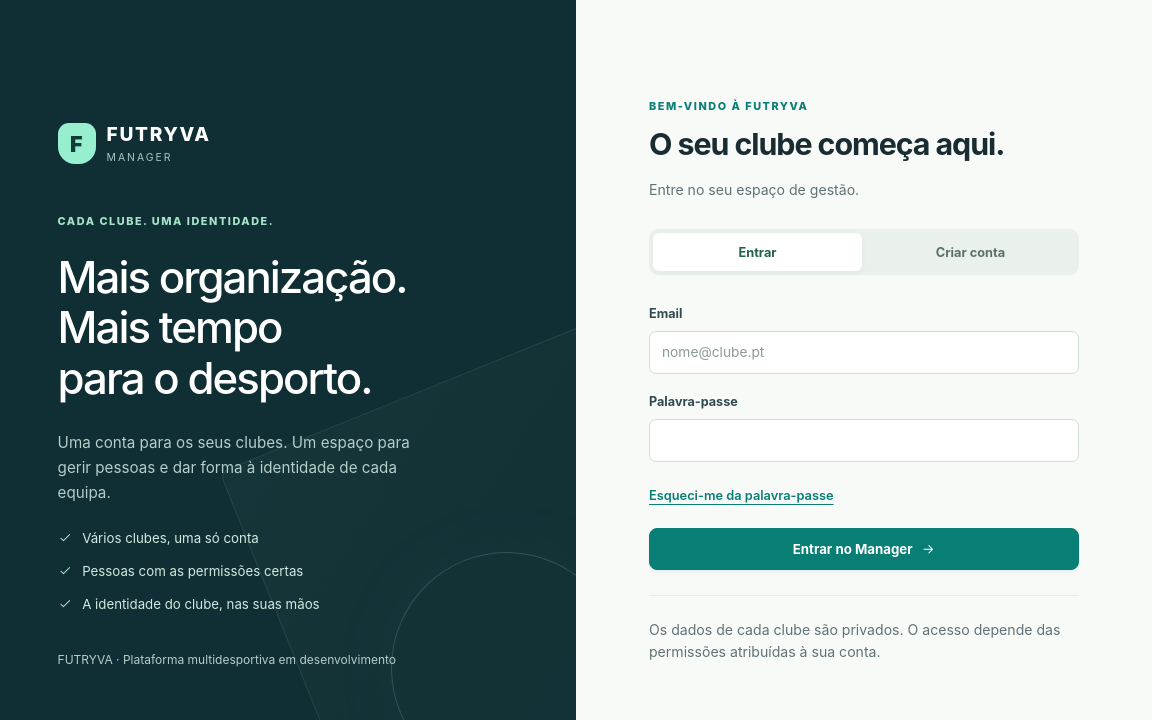
it: acesso à conta › regista uma conta e leva a pessoa à confirmação de email, sem guardar tokens no browser
The width and height of the screenshot is (1152, 720).
Click the button "Criar conta".
click(970, 252)  # box [866, 233, 1075, 271]
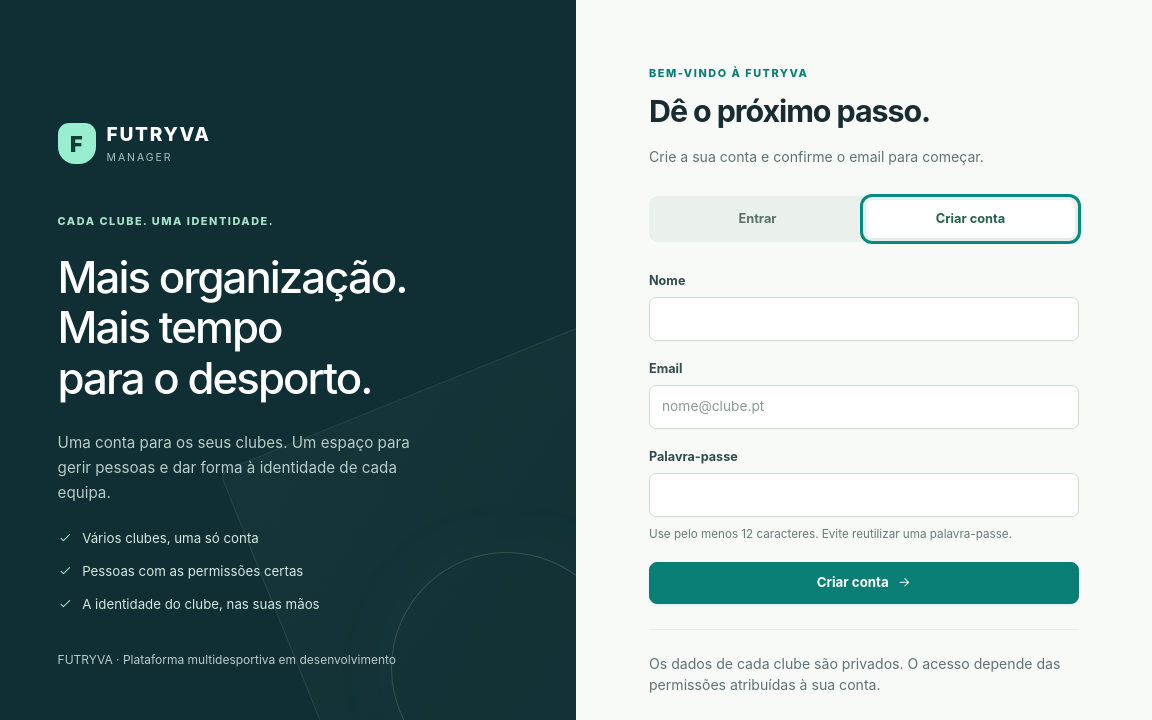
Type "Ana Silva" into the field labelled "Nome".
click(864, 319); type("Ana Silva")  # box [649, 297, 1079, 341]
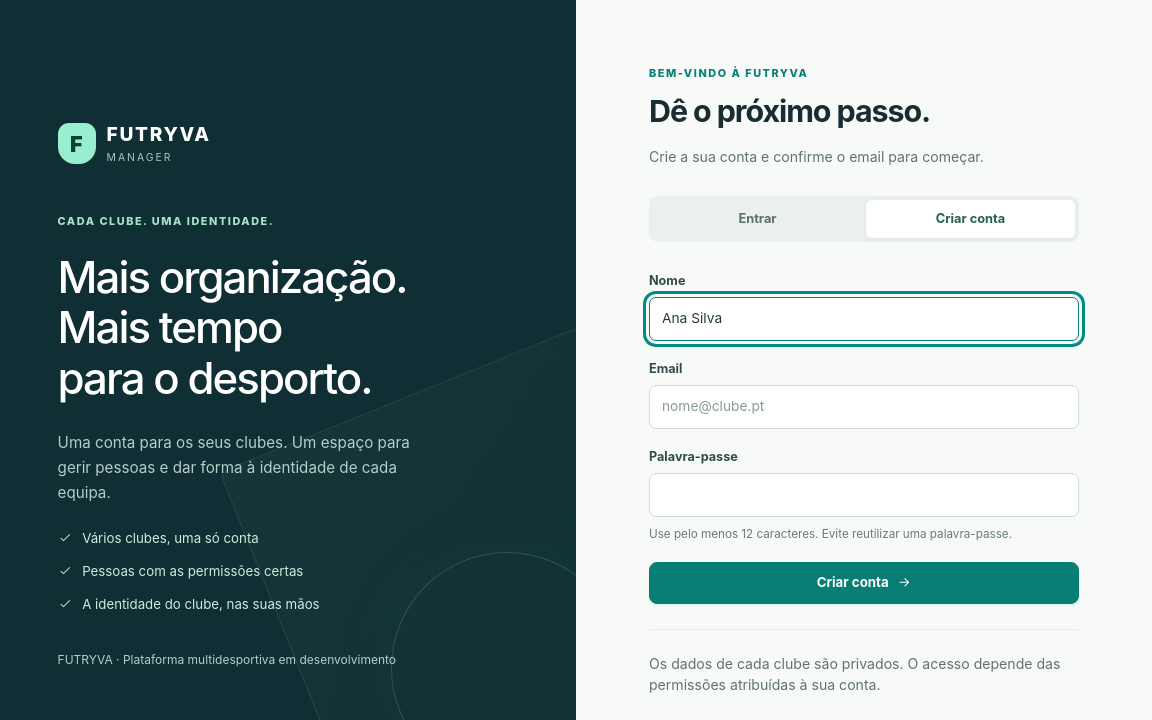
Type "manager@example.invalid" into the field labelled "Email".
click(864, 407); type("manager@example.invalid")  # box [649, 385, 1079, 429]
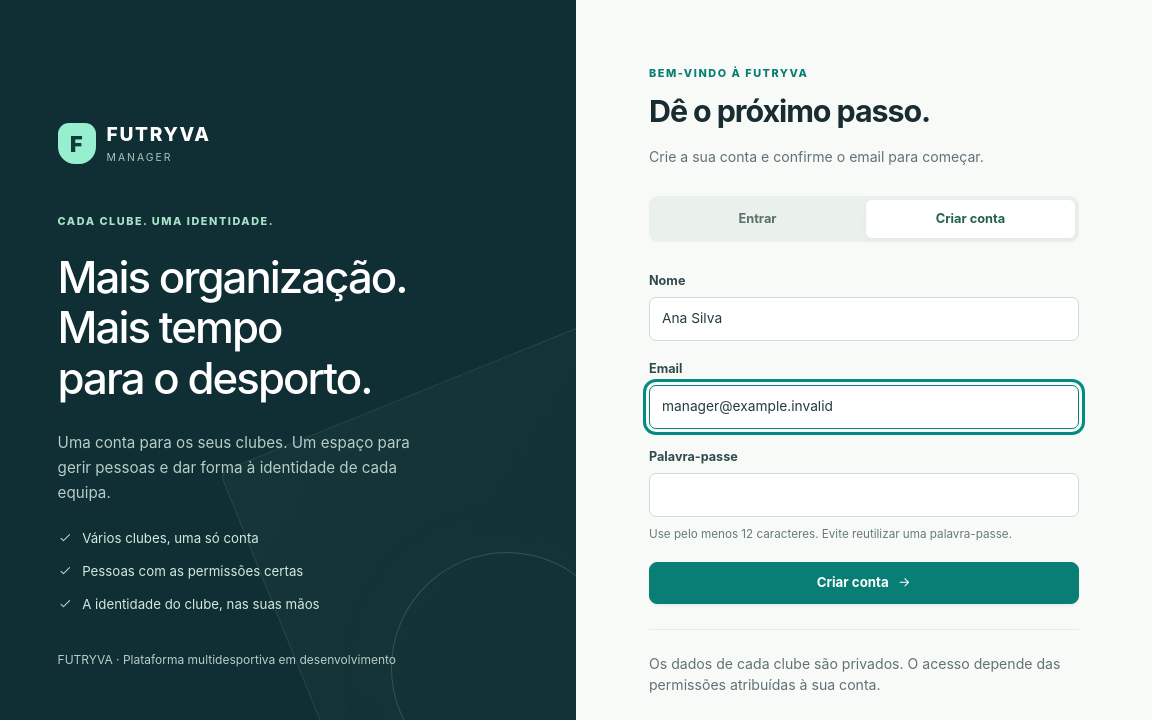
Type "Uma frase sintética longa" into the password field labelled "Palavra-passe".
click(864, 495); type("Uma frase sintética longa")  # box [649, 473, 1079, 517]
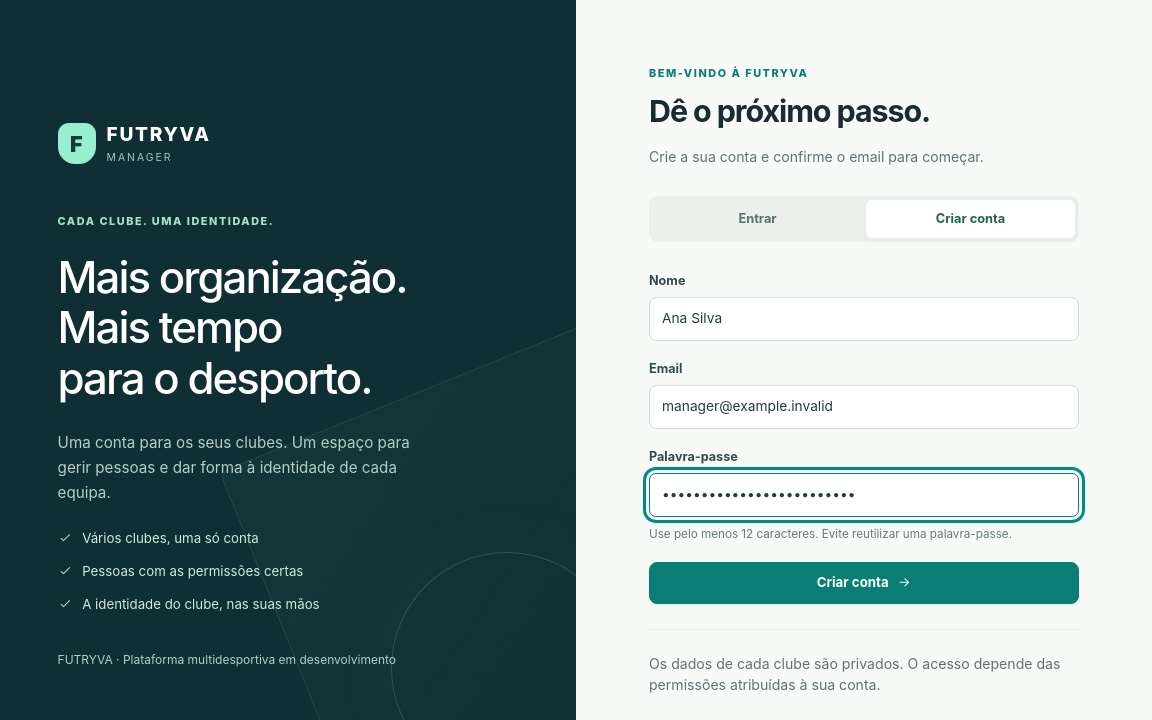
Click the button "Criar conta" below "Nome".
click(864, 583)  # box [649, 562, 1079, 604]
(page scrolled)
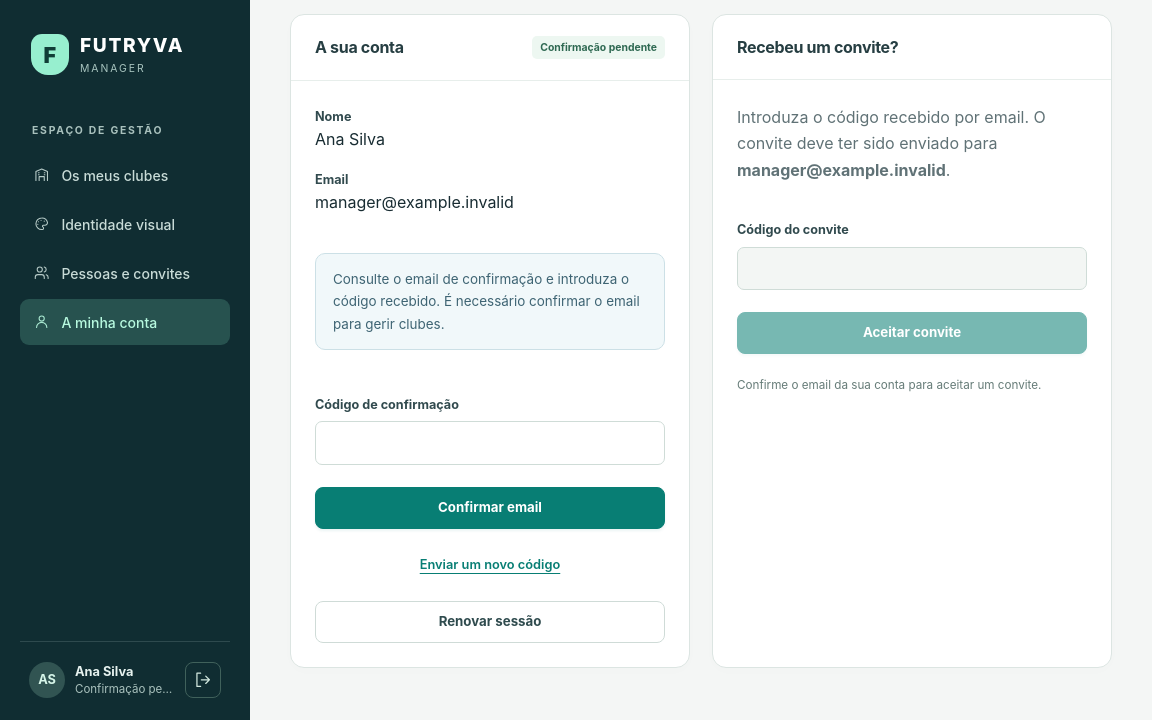
Expected: the button "Confirmar email" is shown, [315, 487, 665, 529]
